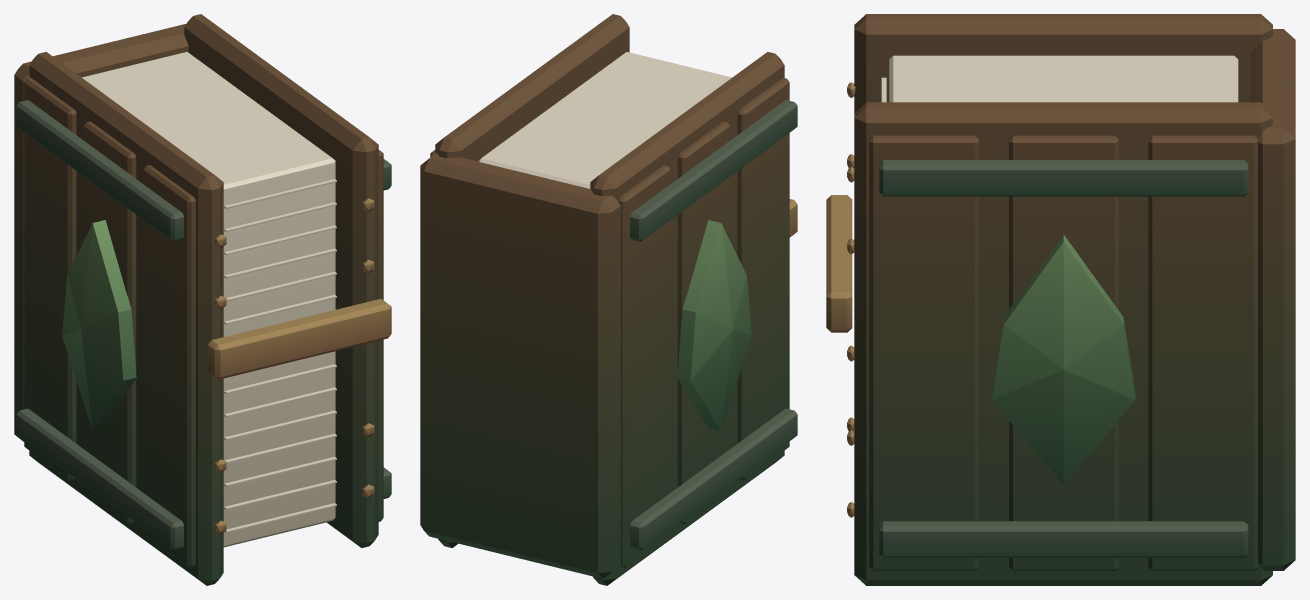
File: herbario_corteza.glb
3 views of the same model, side by side, from view 1: azimuth 30°, elevation 25°; view 2: azimuth 150°, elevation 25°; view 3: azimuth 270°, elevation 25° (orthographic). The views are drawn at different scales.
Visible parts, largest first — view 1: herbario_corteza_finished; view 2: herbario_corteza_finished; view 3: herbario_corteza_finished.
Part boxes in pixels (x1,y1,x2,y2): herbario_corteza_finished: (14,14,391,585); herbario_corteza_finished: (420,14,797,585); herbario_corteza_finished: (826,14,1295,585).
Bounding box in the file's own units: 0.334 × 0.53 × 0.4705.
2 materials, 2 textured.
